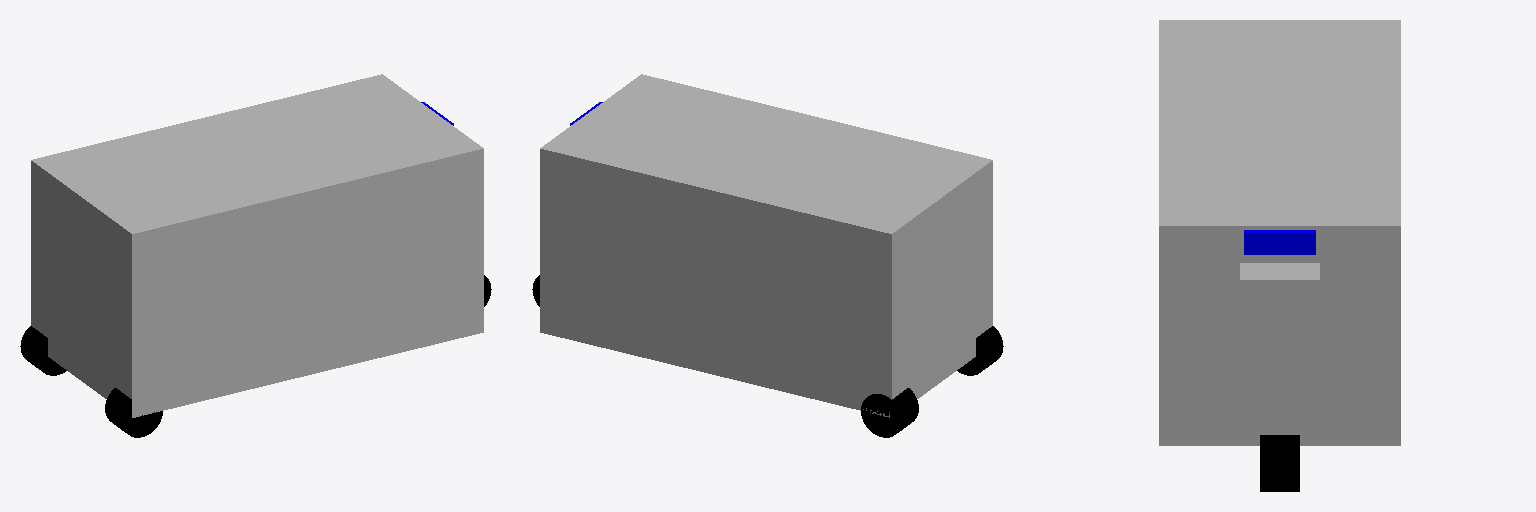
The robot description file, URDF, robot "tortoisebot":
<?xml version="1.0"?>
<robot name="tortoisebot">

  <material name="silver">
    <color rgba="0.75 0.75 0.75 1.0"/>
  </material>
  <material name="black">
    <color rgba="0.0 0.0 0.0 1.0"/>
  </material>

  <link name="base_link">
    <visual>
      <geometry>
        <box size="0.6 0.3 0.3"/>
      </geometry>
      <material name="silver">
        <color rgba="0.75 0.75 0.75 1.0"/>
      </material>
    </visual>
    <collision>
      <geometry>
        <box size="0.6 0.3 0.3"/>
      </geometry>
    </collision>
    <inertial>
      <mass value="1.0"/>
      <inertia ixx="0.015" iyy="0.0375" izz="0.0375" ixy="0" ixz="0" iyz="0"/>
    </inertial>
  </link>

  <link name="front_caster">
    <visual>
      <geometry>
        <box size="0.1 0.1 0.2"/>
      </geometry>
      <material name="silver"/>
    </visual>
    <collision>
      <geometry>
        <box size="0.1 0.1 0.2"/>
      </geometry>
    </collision>
    <inertial>
      <mass value="0.1"/>
      <inertia ixx="0.00083" iyy="0.00083" izz="0.000167" ixy="0" ixz="0" iyz="0"/>
    </inertial>
  </link>

  <joint name="front_caster_joint" type="continuous">
    <axis xyz="0 0 1"/>
    <parent link="base_link"/>
    <child link="front_caster"/>
    <origin rpy="0 0 0" xyz="0.3 0 0"/>
  </joint>

  <link name="front_wheel">
    <visual>
      <geometry>
        <cylinder length="0.05" radius="0.035"/>
      </geometry>
      <material name="black"/>
    </visual>
    <collision>
      <geometry>
        <cylinder length="0.05" radius="0.035"/>
      </geometry>
    </collision>
    <inertial>
      <mass value="0.1"/>
      <inertia ixx="5.1458e-5" iyy="5.1458e-5" izz="6.125e-5" ixy="0" ixz="0" iyz="0"/>
    </inertial>
  </link>

  <joint name="front_wheel_joint" type="continuous">
    <axis xyz="0 0 1"/>
    <parent link="front_caster"/>
    <child link="front_wheel"/>
    <origin rpy="-1.5708 0 0" xyz="0.05 0 -.15"/>
  </joint>

  <link name="right_wheel">
    <visual>
      <geometry>
        <cylinder length="0.05" radius="0.035"/>
      </geometry>
      <material name="black">
        <color rgba="0 0 0 1"/>
      </material>
    </visual>
    <collision>
      <geometry>
        <cylinder length="0.05" radius="0.035"/>
      </geometry>
    </collision>
    <inertial>
      <mass value="0.1"/>
      <inertia ixx="5.1458e-5" iyy="5.1458e-5" izz="6.125e-5" ixy="0" ixz="0" iyz="0"/>
    </inertial>
  </link>

  <joint name="right_wheel_joint" type="continuous">
    <axis xyz="0 0 1"/>
    <parent link="base_link"/>
    <child link="right_wheel"/>
    <origin rpy="-1.5708 0 0" xyz="-0.2825 -0.125 -.15"/>
  </joint>

  <link name="left_wheel">
    <visual>
      <geometry>
        <cylinder length="0.05" radius="0.035"/>
      </geometry>
      <material name="black"/>
    </visual>
    <collision>
      <geometry>
        <cylinder length="0.05" radius="0.035"/>
      </geometry>
    </collision>
    <inertial>
      <mass value="0.1"/>
      <inertia ixx="5.1458e-5" iyy="5.1458e-5" izz="6.125e-5" ixy="0" ixz="0" iyz="0"/>
    </inertial>
  </link>

  <joint name="left_wheel_joint" type="continuous">
    <axis xyz="0 0 1"/>
    <parent link="base_link"/>
    <child link="left_wheel"/>
    <origin rpy="-1.5708 0 0" xyz="-0.2825 0.125 -.15"/>
  </joint>

  
  <link name ="base_footprint">
  </link>

  <joint name ="base_footprint_joint" type="fixed">
    <parent link="base_footprint"/>
    <child link="base_link"/>
    <origin rpy="0 0 0" xyz="0 0 -0.1"/>
  </joint>


<link name="camera_link">
    <visual>
        <geometry>
            <box size="0.02 0.09 0.03"/>
        </geometry>
      <material name="blue">
        <color rgba="0.0 0.0 1.0 1.0"/>
        </material>
    </visual>
    <collision>
        <geometry>
            <box size="0.010 0.03 0.03"/>
        </geometry>
    </collision>
    <inertial>
        <mass value="0.01"/>
        <inertia ixx="0.0001" ixy="0.0" ixz="0.0" iyy="0.0001" iyz="0.0" izz="0.0001"/>
    </inertial>
</link>
  <joint name="camera_joint" type="fixed">
    <parent link="base_link"/>
    <child link="camera_link"/>
    <origin xyz="0.3 0.0 0.13" rpy="0 0 0"/>
  </joint>

<gazebo reference="camera_link">
  <sensor name="depth_camera" type="rgbd_camera">
  <gz_frame_id>camera_link</gz_frame_id>
    <update_rate>30</update_rate>
    <pose>0 0 0 0 0 0</pose>
    <camera>
      <horizontal_fov>2</horizontal_fov>
      <image>
        <width>640</width>
        <height>480</height>
        <format>R8G8B8</format>
      </image>
      <clip>
        <near>0.1</near>
        <far>5.0</far>
      </clip>
    </camera>
    <always_on>1</always_on>
    <visualize>true</visualize>
    <topic>depth_camera</topic>
  </sensor>
</gazebo>


<gazebo>
  <plugin
    filename="gz-sim-joint-state-publisher-system"
    name="gz::sim::systems::JointStatePublisher">
    <topic>joint_states</topic>
    <joint_name>left_wheel_joint</joint_name>
    <joint_name>right_wheel_joint</joint_name>
    <joint_name>front_caster_joint</joint_name>
    <joint_name>front_wheel_joint</joint_name>
  </plugin>
</gazebo>

<gazebo>
 <plugin filename="gz-sim-diff-drive-system" name="gz::sim::systems::DiffDrive">
  <left_joint>left_wheel_joint</left_joint>
  <right_joint>right_wheel_joint</right_joint>
  <wheel_separation>0.25</wheel_separation>
  <wheel_radius>0.035</wheel_radius>
  <frame_id>odom</frame_id>
  <odom_topic>odom</odom_topic>
  <child_frame_id>base_footprint</child_frame_id>
  <topic>cmd_vel</topic>
  <tf_topic>tf</tf_topic>
  <publish_tf>true</publish_tf>
  <publishWheelJointState>true</publishWheelJointState> 
 </plugin>
</gazebo>

</robot>

--- Facts derived from the render (not from the file) ---
The picture shows the robot from 3 angles, left to right: view 1: azimuth 30°, elevation 25°; view 2: azimuth 150°, elevation 25°; view 3: azimuth 270°, elevation 25°; orthographic projection.
Model tortoisebot with 7 links and 6 joints (4 continuous, 2 fixed), rooted at base_footprint, posed all joints at 0.
Links seen in each view (by area): view 1: base_link, right_wheel, left_wheel; view 2: base_link, left_wheel, right_wheel; view 3: base_link, front_caster, front_wheel, camera_link.
Boxes of the visible links, x1,y1,x2,y2 form: base_link: [31, 74, 483, 417]; right_wheel: [105, 388, 162, 437]; left_wheel: [20, 326, 66, 375]; base_link: [540, 74, 992, 417]; left_wheel: [861, 388, 918, 437]; right_wheel: [957, 326, 1003, 375]; base_link: [1159, 20, 1400, 445]; front_caster: [1240, 263, 1319, 425]; front_wheel: [1260, 435, 1299, 491]; camera_link: [1244, 230, 1315, 254].
Bounding box of the posed robot: 0.7025 × 0.3 × 0.335 m (x, y, z).
Geometry: primitives only (box / cylinder / sphere), no mesh files.
